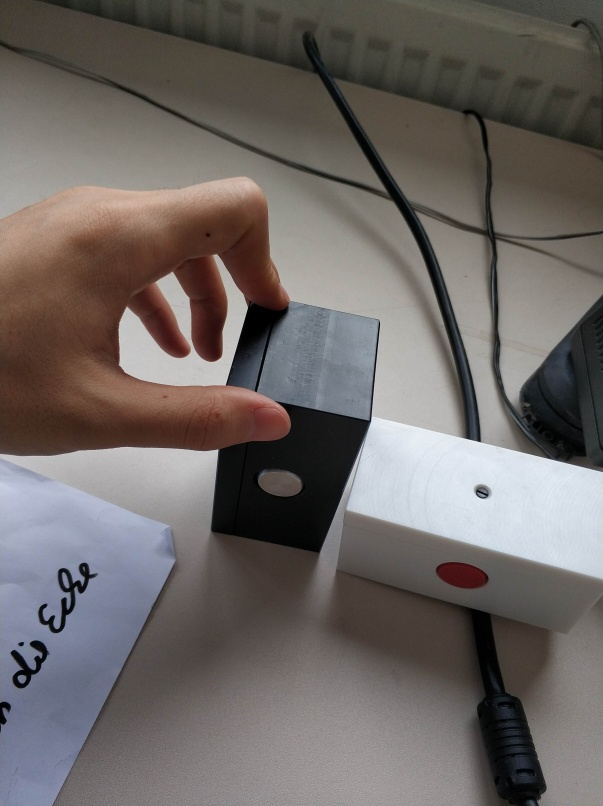black+black+silver: (207, 296, 382, 557)
white+white+red: (331, 413, 603, 639)
